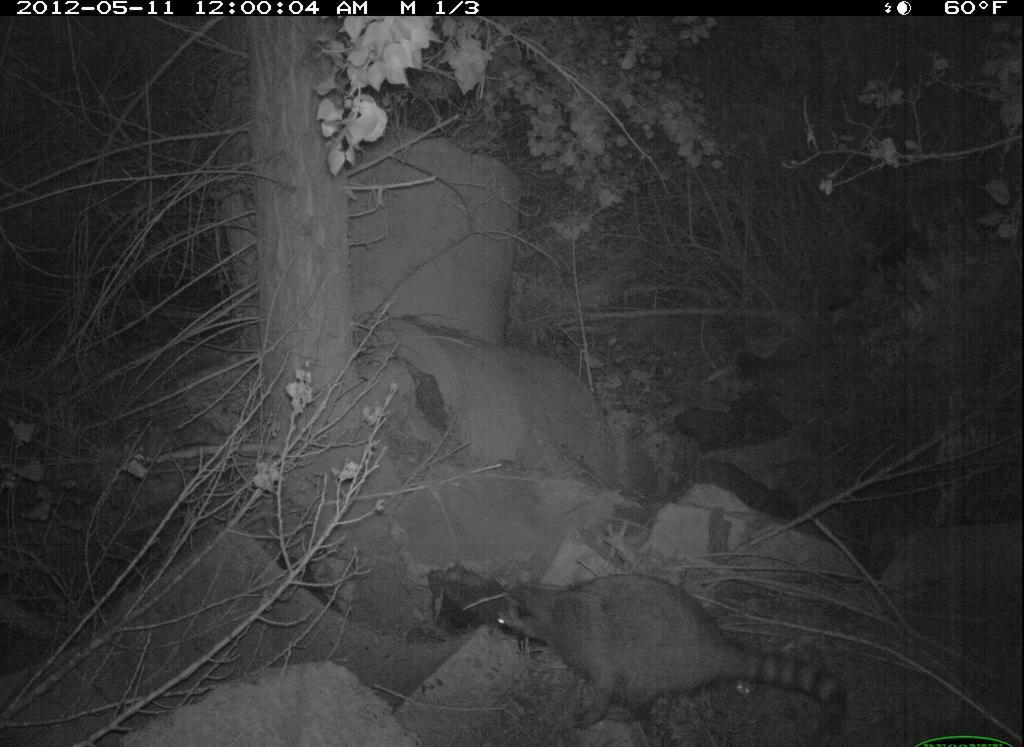raccoon: (479, 555, 856, 742)
